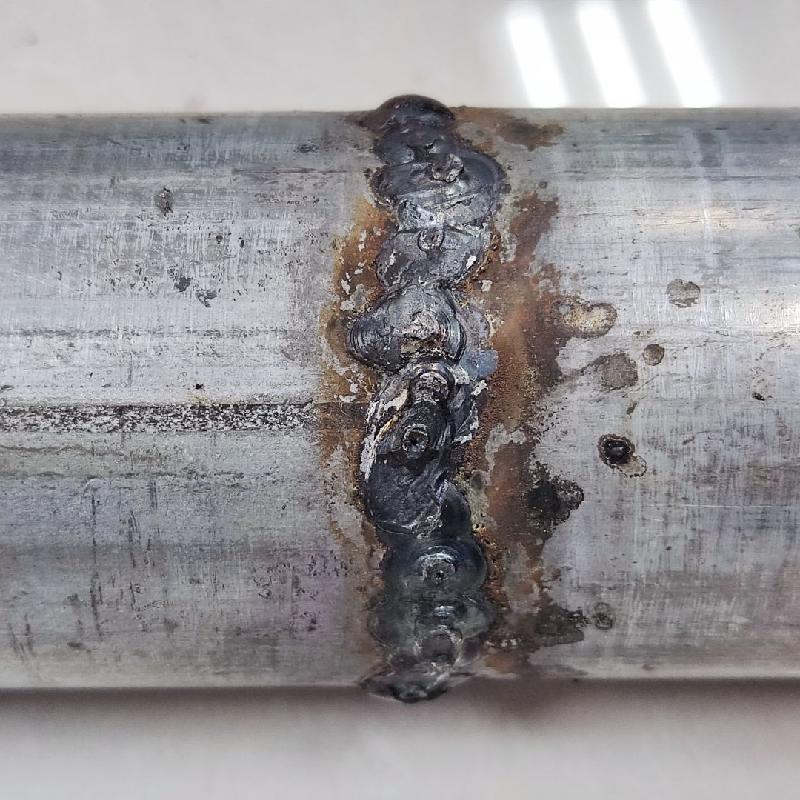Surface_pores: (418, 555, 466, 590), (404, 430, 436, 453)
Weld: (357, 89, 460, 134)
wrong_size: (328, 73, 509, 709)
